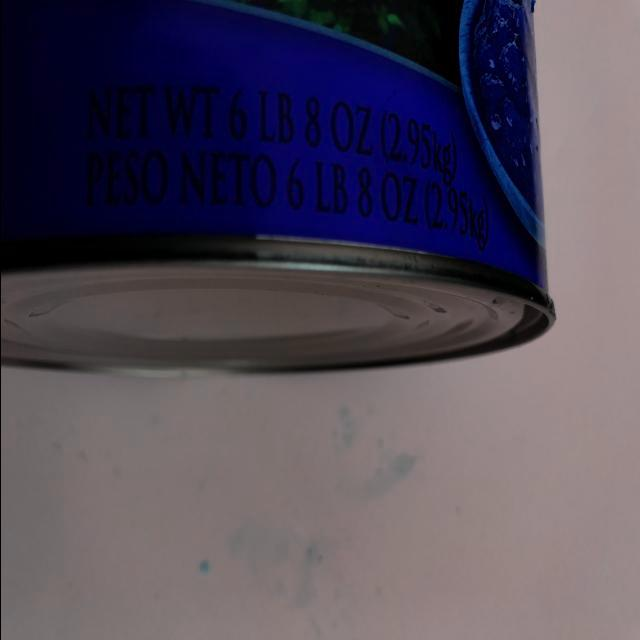metal: (0, 0, 565, 412)
